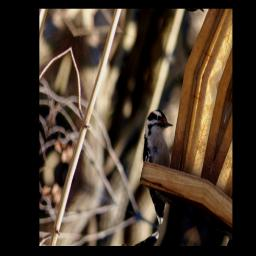Woodpecker: (124, 105, 215, 239)
